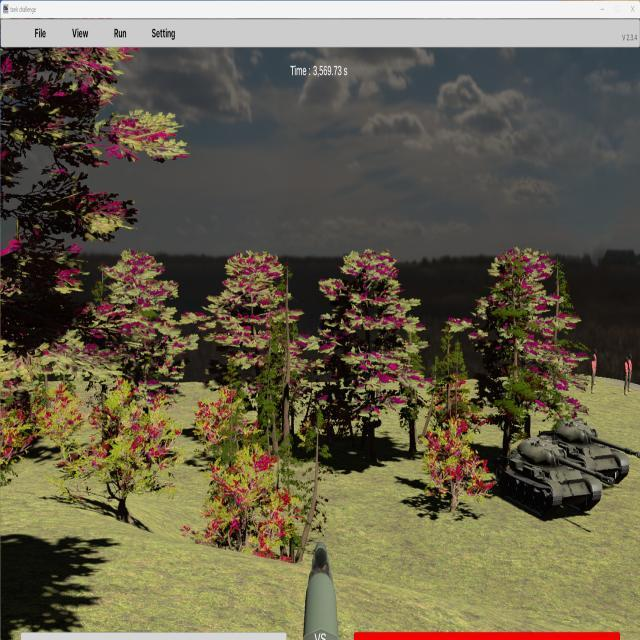Tank: (495, 438, 616, 521), (536, 419, 639, 487)
